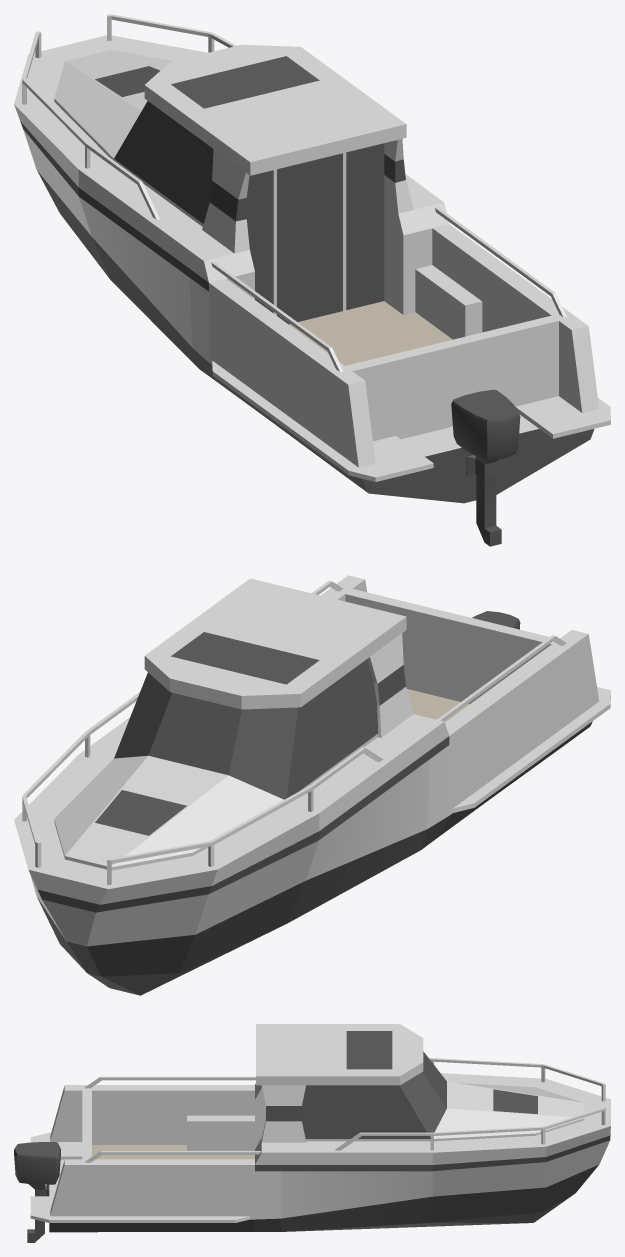
File: Motor_Boat_ani.fbx
3 views of the same model, one above another, from view 1: azimuth 30°, elevation 25°; view 2: azimuth 150°, elevation 25°; view 3: azimuth 270°, elevation 25° (orthographic). The views are drawn at different scales.
Parts seen in each view (by area): view 1: Motor_Boat; view 2: Motor_Boat; view 3: Motor_Boat.
Boxes of the visible parts, bbox=[...] form: Motor_Boat: bbox=[14, 14, 610, 546]; Motor_Boat: bbox=[14, 575, 610, 995]; Motor_Boat: bbox=[14, 1024, 610, 1242].
Bounding box in the file's own units: 139 × 141 × 401.
